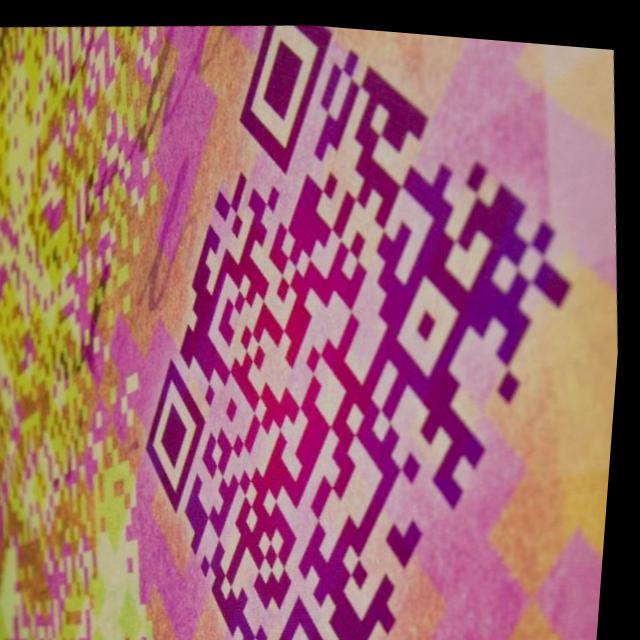qrcode: (103, 10, 640, 640)
